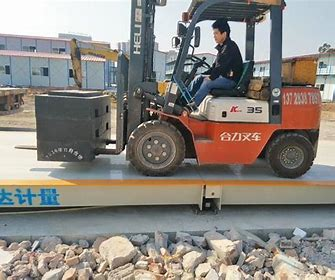Pallet Jack: (13, 1, 324, 179)
